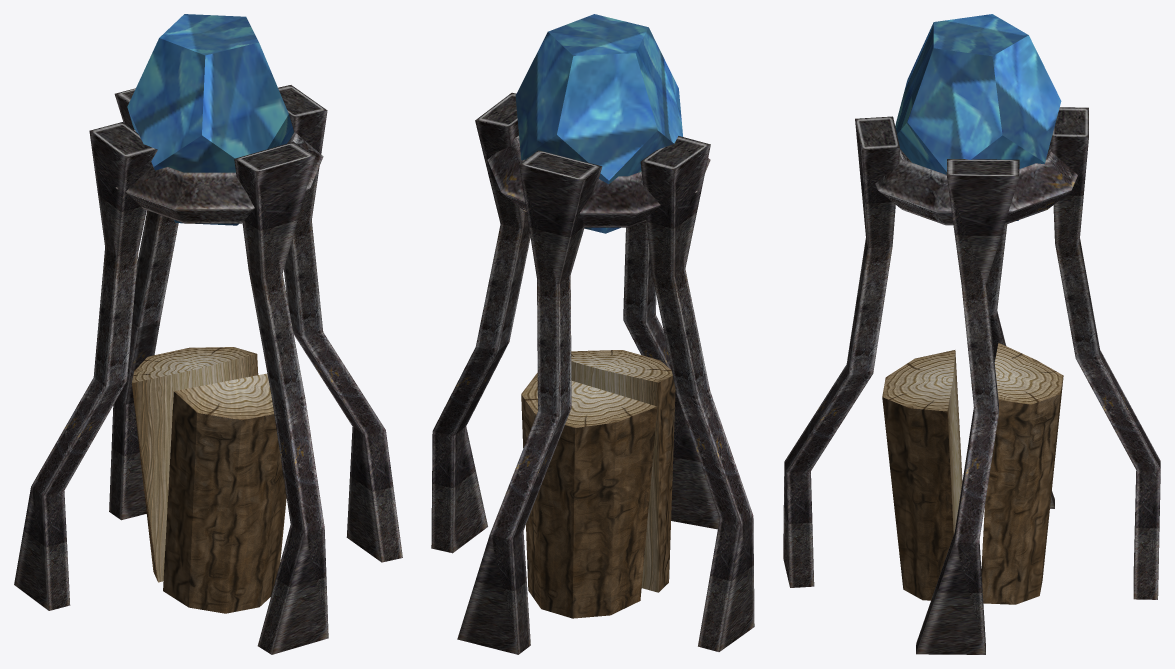
The model's file is p2_crystal.fbx.
3 views of the same model, side by side, from view 1: azimuth 30°, elevation 25°; view 2: azimuth 150°, elevation 25°; view 3: azimuth 270°, elevation 25° (orthographic).
Visible parts, largest first — view 1: p2_crystal_LOD0; view 2: p2_crystal_LOD0; view 3: p2_crystal_LOD0.
Boxes of the visible parts, bbox=[...] form: p2_crystal_LOD0: bbox=[14, 14, 402, 654]; p2_crystal_LOD0: bbox=[431, 14, 754, 654]; p2_crystal_LOD0: bbox=[783, 14, 1160, 654].
Size of what is drawn, in the model's own units: 217 by 352 by 220.
